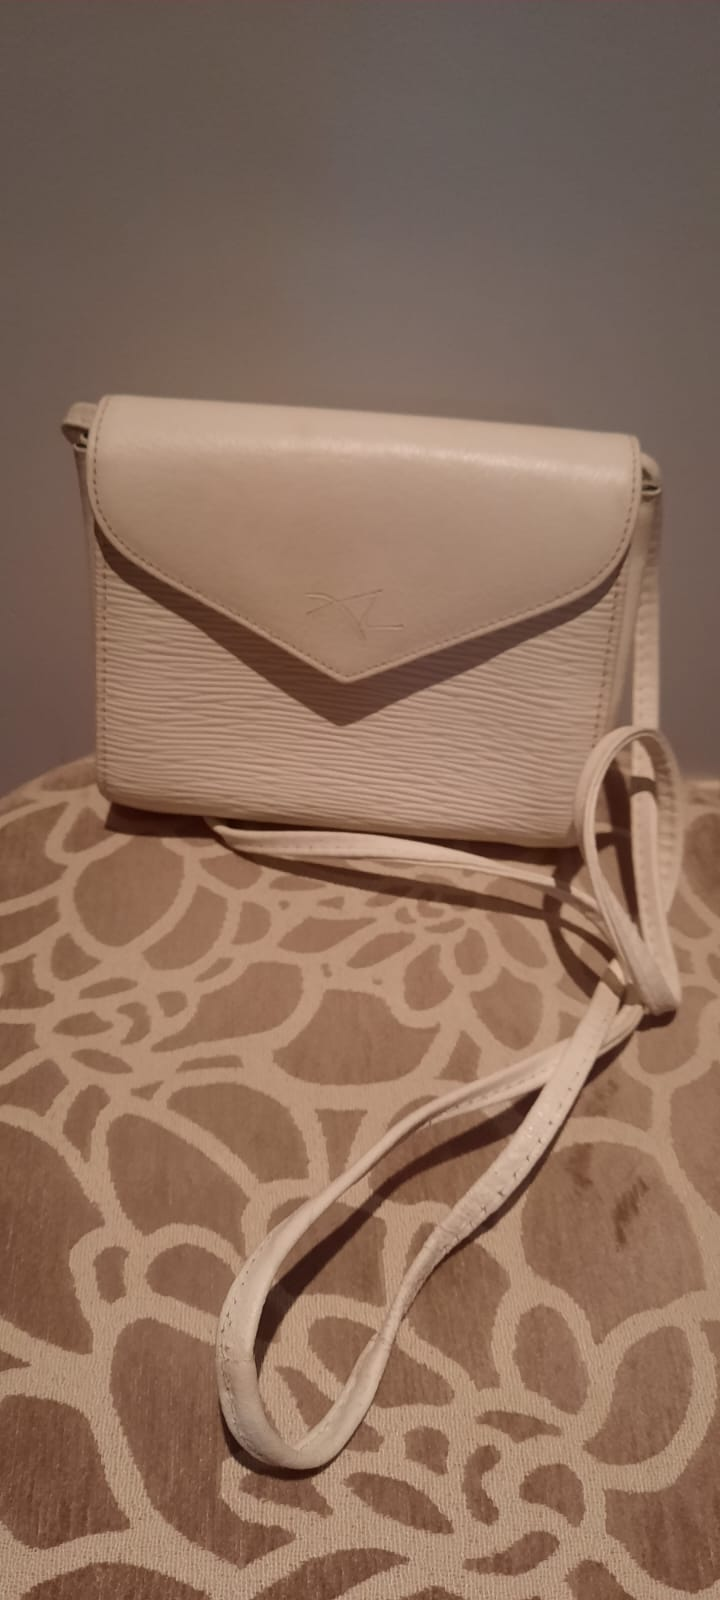cartera: (27, 343, 693, 1456)
cuero: (160, 490, 520, 700)
